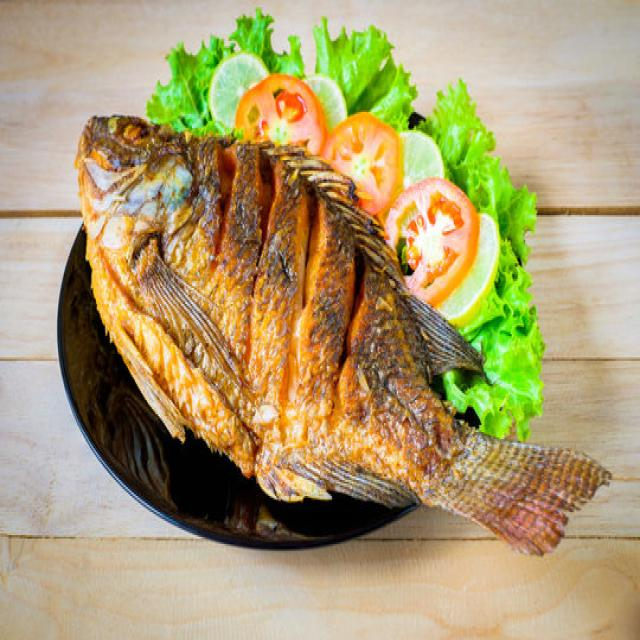Peixe: (74, 110, 612, 556)
